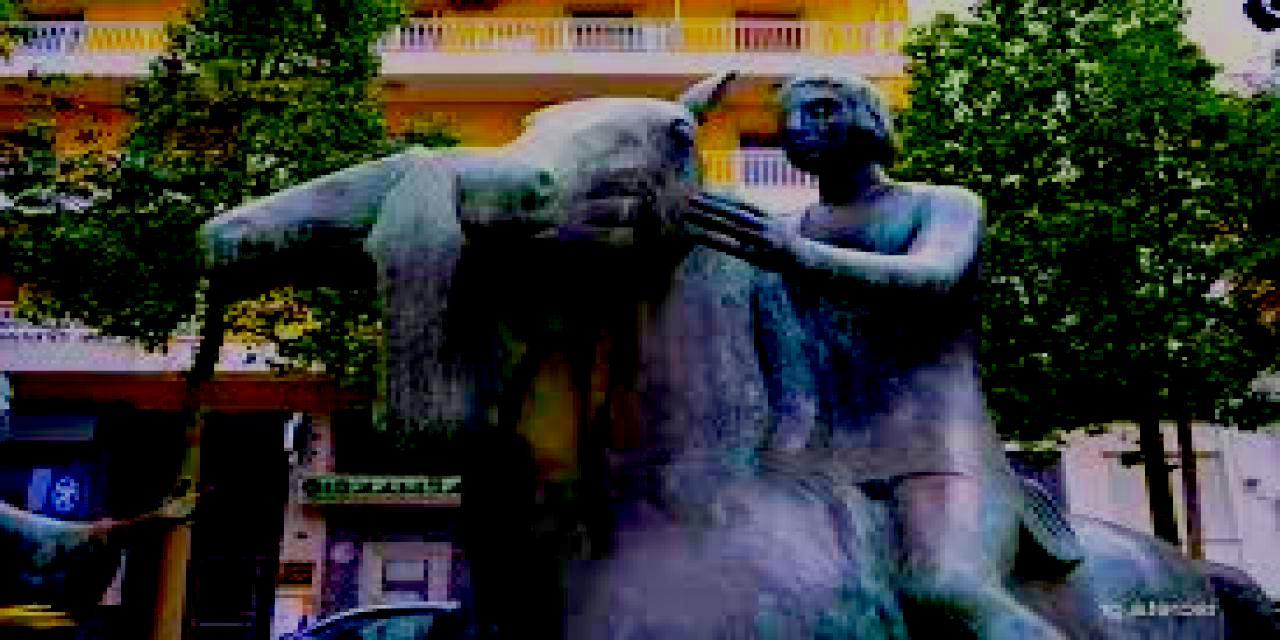Aretousa: (1, 71, 1280, 640)
